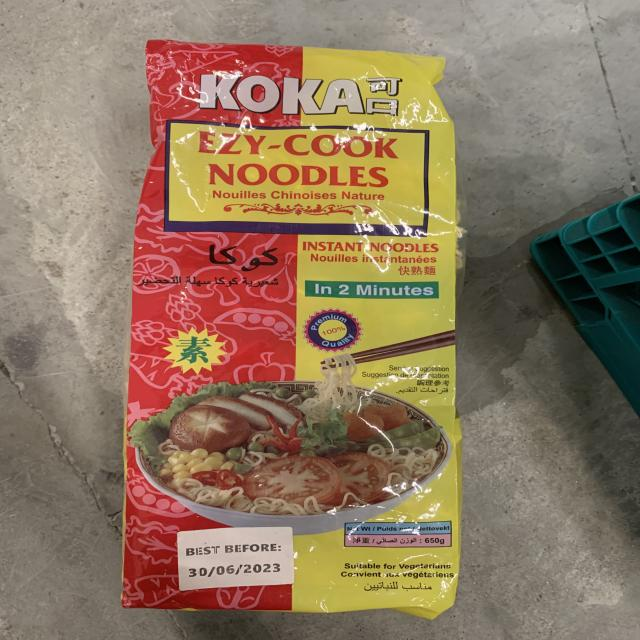object_name: (148, 59, 453, 610)
